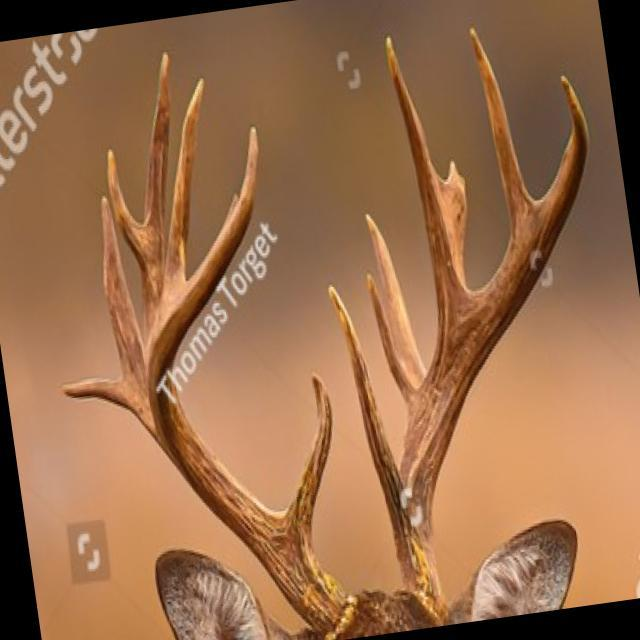E1: (438, 160, 468, 286)
L-F: (389, 72, 591, 611)
L-G1: (326, 282, 406, 516)
L-G2: (367, 271, 418, 415)
L-G4: (385, 33, 471, 329)
L-G5: (467, 25, 534, 228)
R-F: (146, 123, 358, 640)
R-G1: (283, 370, 335, 552)
R-G4: (159, 78, 204, 301)
